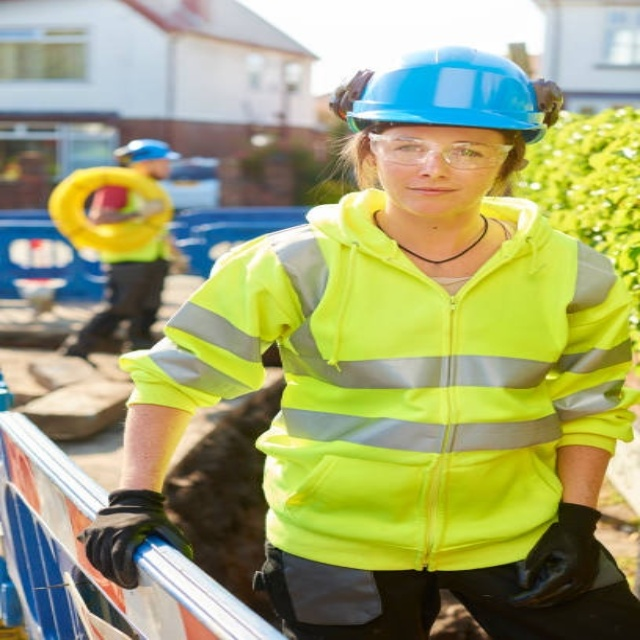Gafas: (362, 130, 513, 170)
Guantes: (78, 490, 192, 589), (505, 504, 605, 608)
Sin_mascara: (400, 179, 469, 208)
